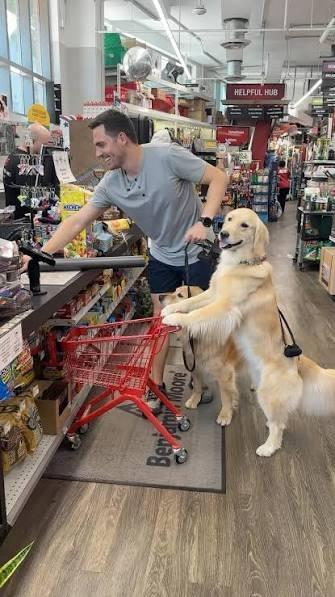adult_dog: (161, 208, 335, 459)
non-dog: (21, 108, 229, 321)
